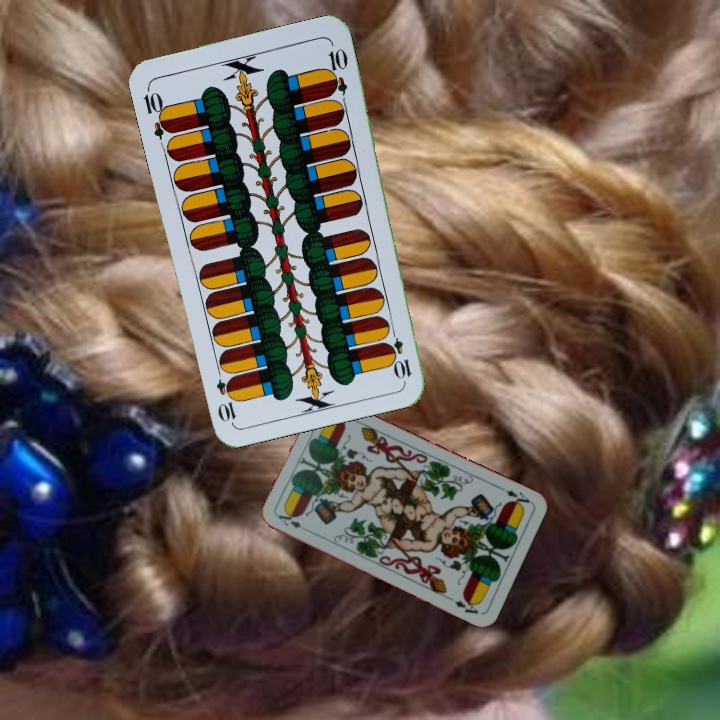E10: (139, 83, 175, 141), (385, 323, 414, 382)
EA: (495, 483, 532, 510), (274, 511, 312, 534)
